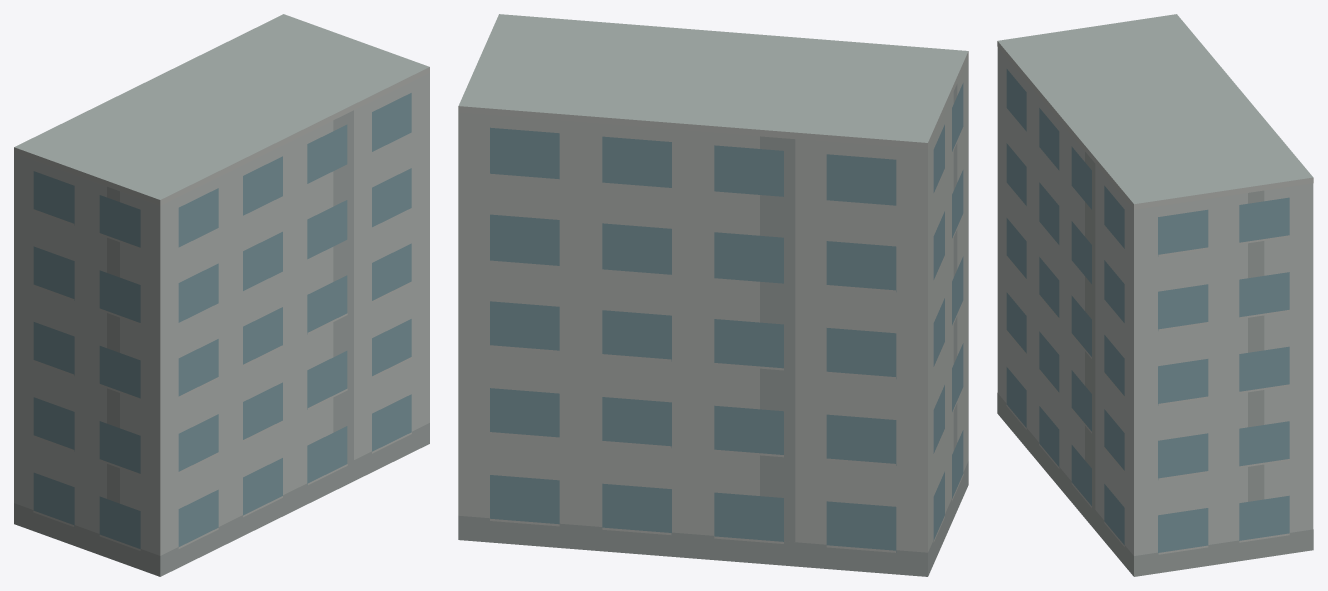
The model's file is survey-upis-32597470.glb.
3 renders of one model, left to right at view 1: azimuth 30°, elevation 25°; view 2: azimuth 150°, elevation 25°; view 3: azimuth 270°, elevation 25°, orthographic. The views are drawn at different scales.
Visible parts, largest first — view 1: survey-upis-32597470.tmp; view 2: survey-upis-32597470.tmp; view 3: survey-upis-32597470.tmp.
Part boxes in pixels (x1,y1,x2,y2): survey-upis-32597470.tmp: (14, 14, 429, 576); survey-upis-32597470.tmp: (458, 14, 968, 576); survey-upis-32597470.tmp: (997, 14, 1313, 576).
Size of the model in its own units: 17.41 by 15.9 by 12.23.
